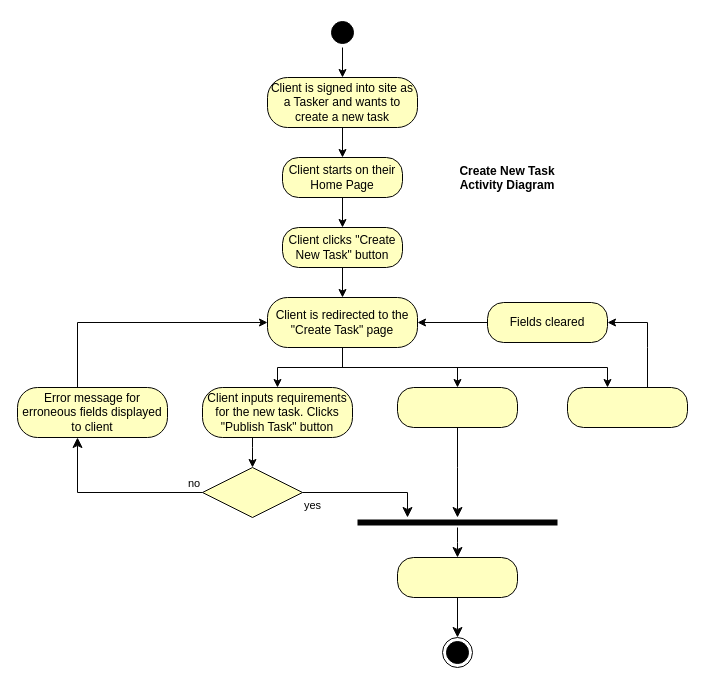
Some shapes in this 705 by 685 pixel diagram are drawn without their labels. Here are the shapes that lost their labels. From the top down, the centre of each, then its label:
(x=457, y=407): Client clicks "Return to Home" button link
(x=627, y=407): Client clicks "Delete Task" button
(x=252, y=492): Valid Task Inputs?
(x=457, y=577): Client redirected to Home Page
